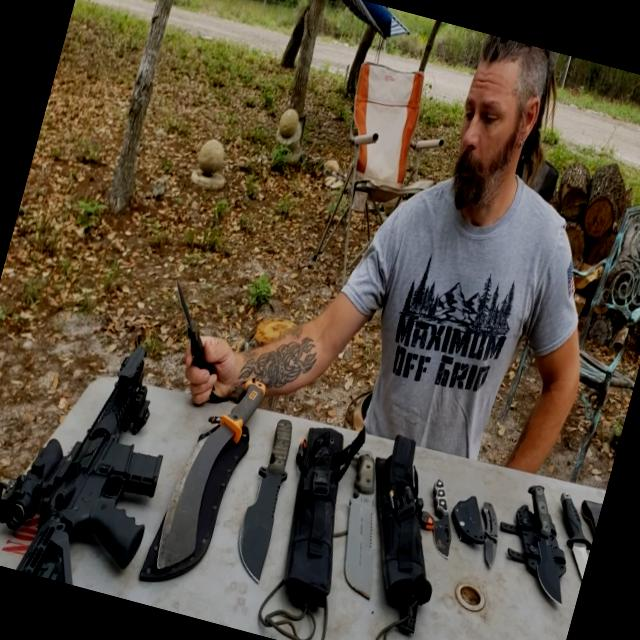knife: (143, 342, 288, 596), (308, 425, 426, 610), (222, 382, 326, 588), (490, 478, 598, 632), (392, 453, 487, 576), (147, 278, 229, 381), (536, 479, 604, 588), (461, 490, 528, 578)
long weapon: (0, 299, 211, 603)
